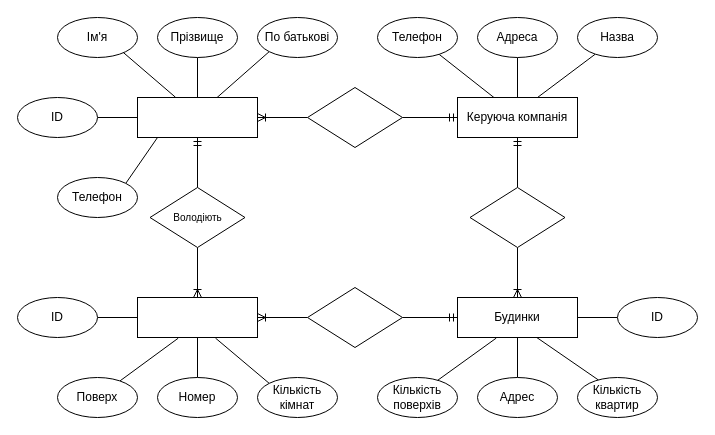
Image size: 715x435. Some labels were removed from this diagram. The shapes that lost their labels are listed below. From the top down, each one's centre as x and y in pixels, then its label:
(197,117): Мешканці
(354,117): Заключають договір
(517,217): Забезпечує роботу
(197,317): Квартири
(354,317): Мають
